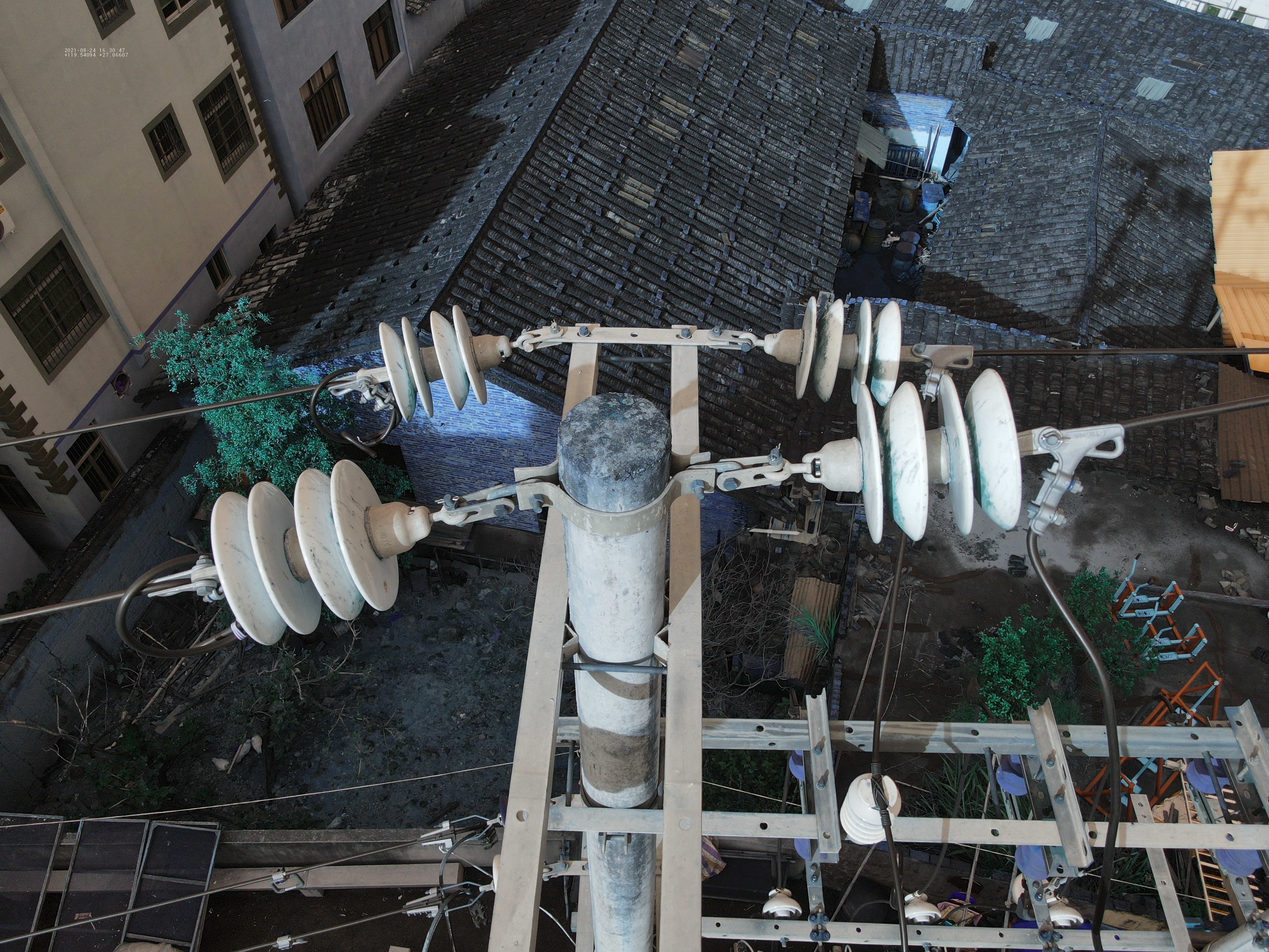severe_soiling_no_discharge_whole: (797, 367, 1022, 545), (760, 295, 905, 405), (377, 304, 508, 424)
